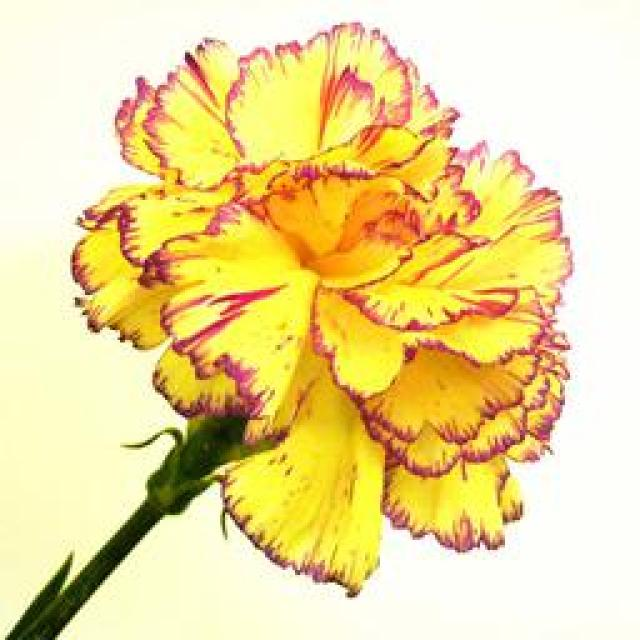carnation: (81, 27, 585, 600)
